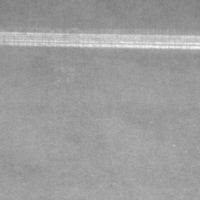scratches: (5, 30, 199, 51)
